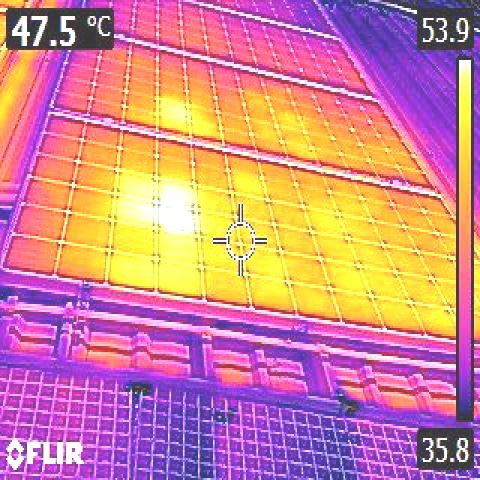fault: (160, 205, 196, 231), (162, 180, 194, 206)
